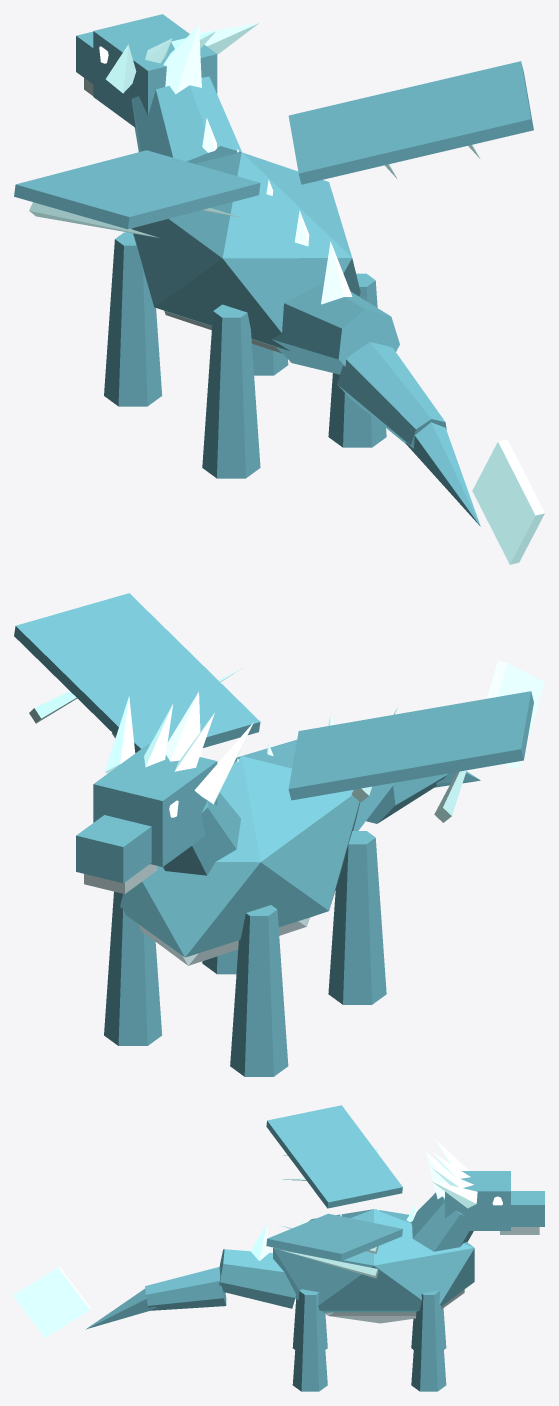
Rendered from dragon_crystal.glb.
The picture shows the model from 3 angles, top to bottom: view 1: azimuth 30°, elevation 25°; view 2: azimuth 150°, elevation 25°; view 3: azimuth 270°, elevation 25°; orthographic projection. The views are drawn at different scales.
Visible parts, largest first — view 1: DragonBody, DragonWingR, DragonWingL, DragonLegBL, DragonLegFL, DragonTailA, DragonHead, DragonTailB, DragonNeck, DragonTailFin, DragonLegBR, DragonTailC (+7 smaller); view 2: DragonBody, DragonWingR, DragonWingL, DragonHead, DragonLegFL, DragonLegBL, DragonLegFR, DragonSnout, DragonNeck, DragonTailFin, DragonTailB, DragonCrest (+10 smaller); view 3: DragonBody, DragonWingL, DragonWingR, DragonTailA, DragonTailFin, DragonLegBR, DragonHead, DragonLegFR, DragonTailB, DragonNeck, DragonSnout, DragonBelly (+5 smaller).
Boxes of the visible parts, x1,y1,x2,y2 form: DragonBody: (130, 146, 360, 351); DragonWingR: (288, 61, 533, 184); DragonWingL: (14, 150, 260, 229); DragonLegBL: (202, 304, 260, 478); DragonLegFL: (104, 232, 162, 406); DragonTailA: (271, 284, 399, 374); DragonHead: (93, 14, 217, 127); DragonTailB: (337, 342, 446, 448); DragonNeck: (131, 76, 241, 161); DragonTailFin: (472, 439, 544, 564); DragonLegBR: (328, 273, 386, 447); DragonTailC: (405, 422, 480, 526); DragonBody: (120, 739, 359, 957); DragonWingR: (14, 593, 260, 752); DragonWingL: (288, 691, 533, 800); DragonHead: (93, 744, 217, 866); DragonLegFL: (230, 905, 288, 1076); DragonLegBL: (328, 831, 386, 1004); DragonLegFR: (104, 891, 162, 1045); DragonSnout: (76, 815, 151, 883); DragonNeck: (162, 792, 240, 875); DragonTailFin: (487, 661, 544, 768); DragonTailB: (366, 773, 447, 823); DragonCrest: (166, 692, 201, 761); DragonBody: (273, 1209, 474, 1312); DragonWingL: (266, 1105, 402, 1208); DragonWingR: (266, 1213, 402, 1261); DragonTailA: (219, 1249, 295, 1308); DragonTailFin: (14, 1266, 90, 1337); DragonLegBR: (292, 1289, 327, 1391); DragonHead: (445, 1171, 510, 1230); DragonLegFR: (411, 1290, 446, 1391); DragonTailB: (145, 1267, 226, 1310); DragonNeck: (410, 1192, 473, 1251); DragonSnout: (511, 1191, 544, 1226); DragonBelly: (324, 1289, 464, 1323).
Bounding box in the file's own units: 3.4 × 2.27 × 5.08.
